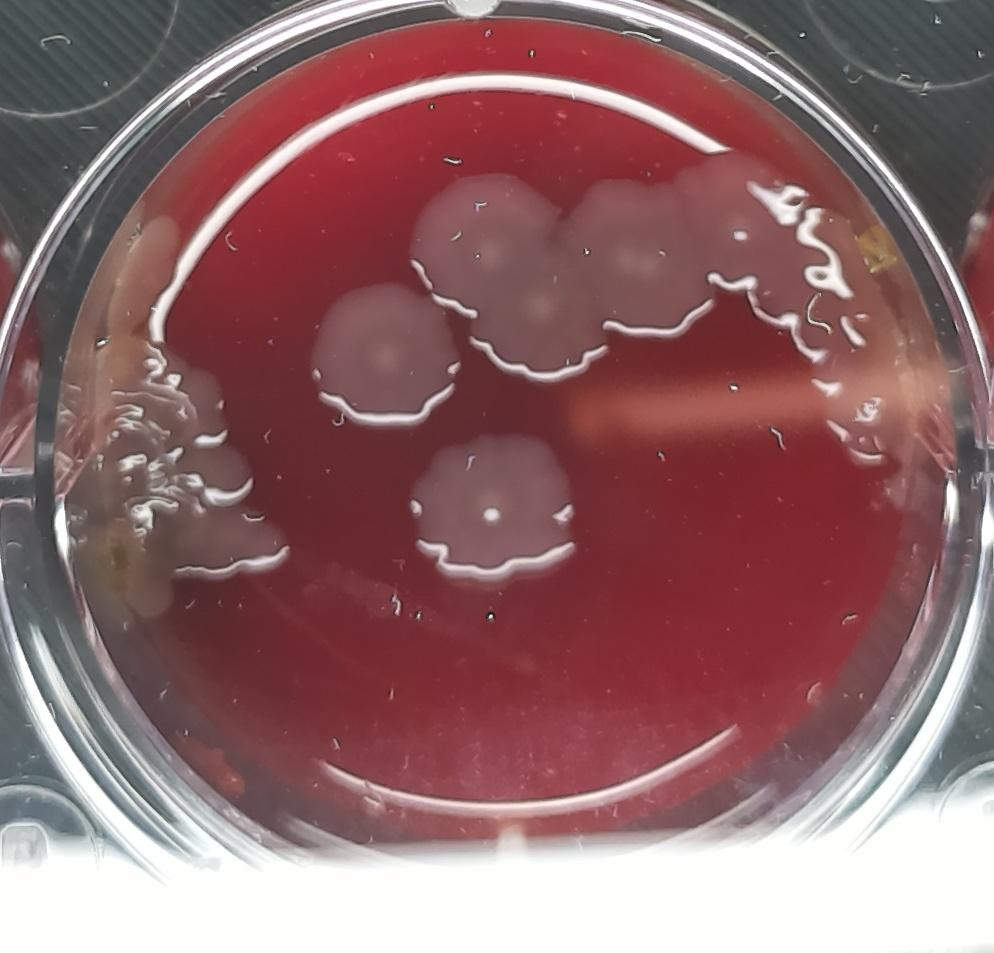vproteolyticus: (62, 327, 294, 582), (742, 201, 923, 477), (409, 430, 586, 586), (302, 274, 468, 431), (564, 170, 716, 339), (406, 170, 560, 314), (472, 241, 614, 386), (681, 144, 796, 303)
